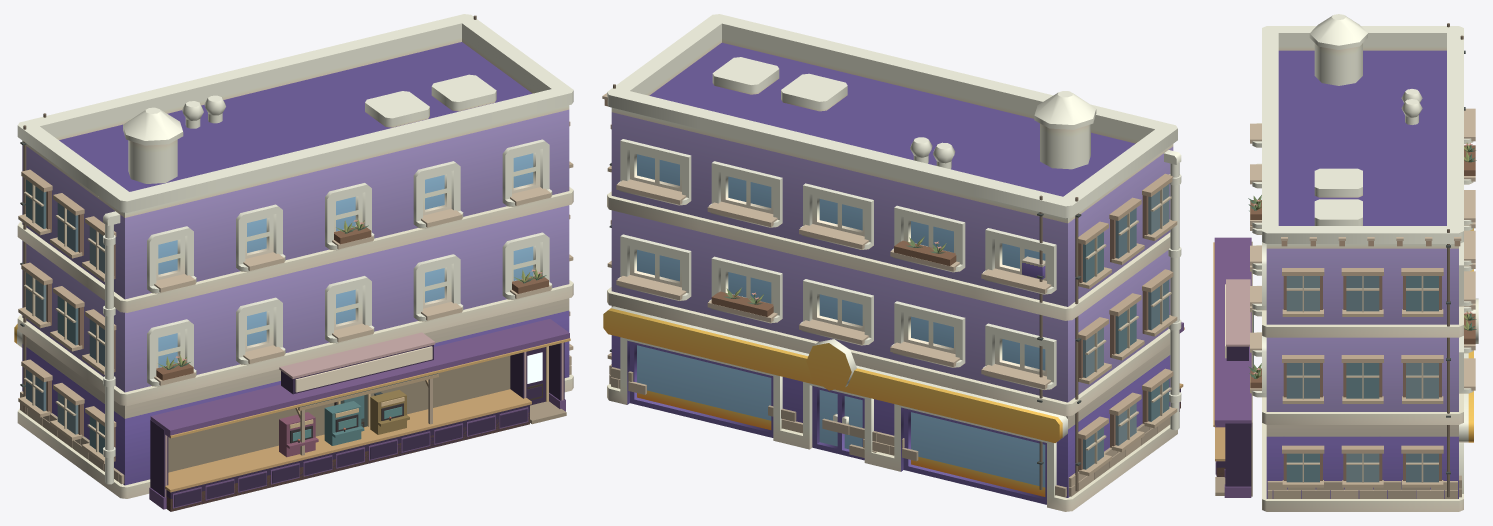
The model's file is shop-k-lavender.glb.
3 views of the same model, side by side, from view 1: azimuth 30°, elevation 25°; view 2: azimuth 150°, elevation 25°; view 3: azimuth 270°, elevation 25° (orthographic). The views are drawn at different scales.
Visible parts, largest first — view 1: building-k, KID_ARCADE_Joinery, Masonry_and_stairwell_windows, Upper_floor_balconies_and_carved_cornice, Residential_Portico; view 2: building-k, Masonry_and_stairwell_windows, Upper_floor_balconies_and_carved_cornice; view 3: building-k, Masonry_and_stairwell_windows, KID_ARCADE_Joinery, Upper_floor_balconies_and_carved_cornice.
Boxes of the visible parts, x1,y1,x2,y2 form: building-k: (14, 14, 573, 498); KID_ARCADE_Joinery: (149, 319, 570, 511); Masonry_and_stairwell_windows: (18, 15, 573, 484); Upper_floor_balconies_and_carved_cornice: (154, 187, 551, 385); Residential_Portico: (295, 373, 438, 455); building-k: (603, 14, 1181, 511); Masonry_and_stairwell_windows: (607, 84, 1177, 497); Upper_floor_balconies_and_carved_cornice: (602, 93, 1051, 389); building-k: (1252, 14, 1478, 511); Masonry_and_stairwell_windows: (1267, 23, 1465, 498); KID_ARCADE_Joinery: (1213, 237, 1252, 497); Upper_floor_balconies_and_carved_cornice: (1248, 108, 1476, 393).
Bounding box in the file's own units: 2.12 × 1.47 × 1.1.
55 materials, 1 textured.
